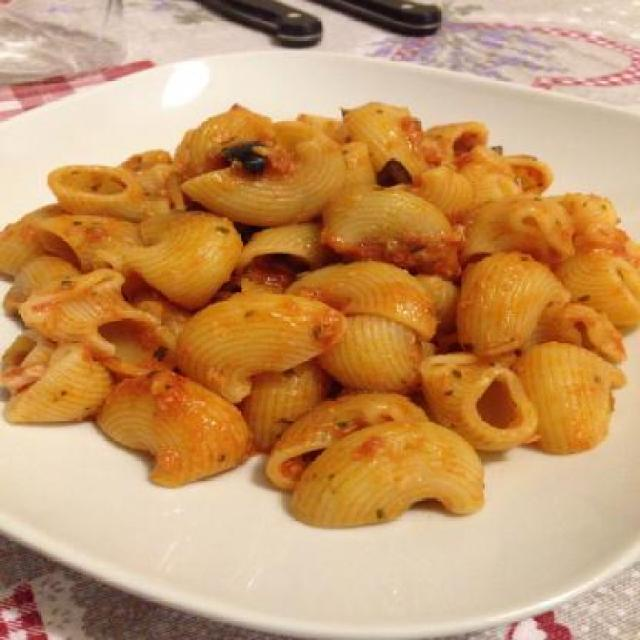Pasta al ragu: (7, 64, 638, 558)
